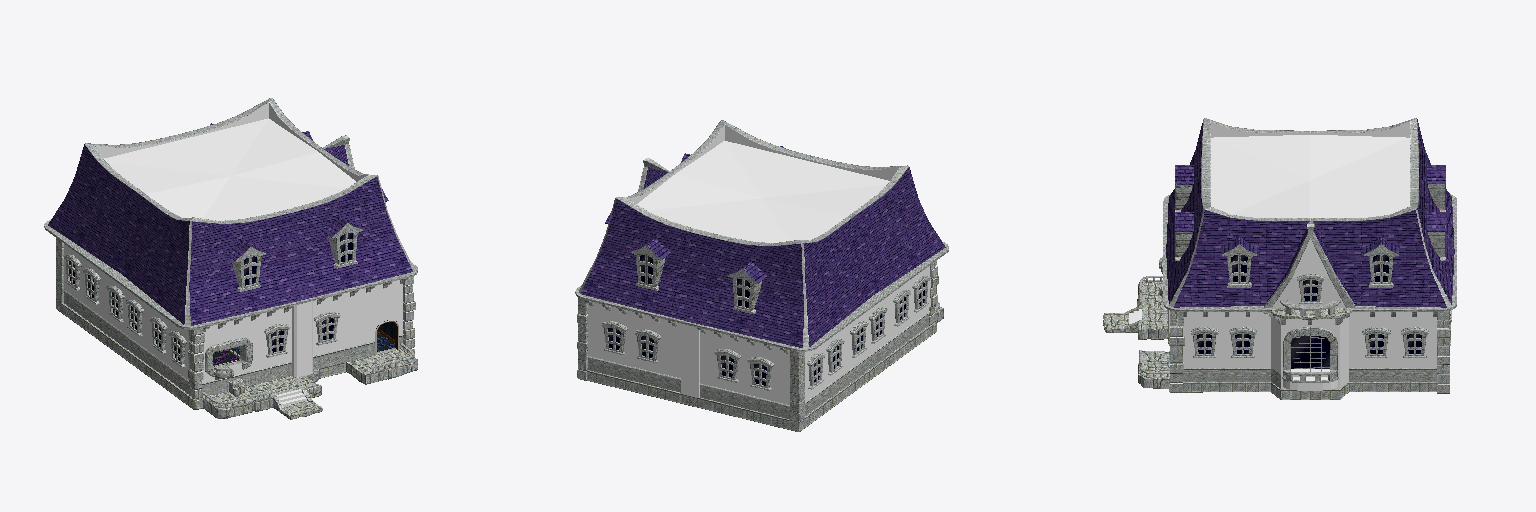
3 views of the same model, side by side, from view 1: azimuth 30°, elevation 25°; view 2: azimuth 150°, elevation 25°; view 3: azimuth 270°, elevation 25° (orthographic).
Parts seen in each view (by area): view 1: roof, stone5, stone2, stone6, stone4, stone1, outglass; view 2: roof, stone5, stone2, stone6, stone1, outglass; view 3: stone5, roof, stone2, stone6, stone4, stone1, outglass.
Boxes of the visible parts, x1,y1,x2,y2 form: roof: [48, 123, 412, 325]; stone5: [64, 102, 403, 405]; stone2: [44, 98, 417, 409]; stone6: [64, 222, 362, 376]; stone4: [203, 349, 417, 419]; stone1: [64, 291, 403, 396]; outglass: [69, 233, 352, 360]; roof: [581, 146, 945, 347]; stone5: [588, 125, 930, 404]; stone2: [575, 120, 948, 431]; stone6: [601, 245, 930, 390]; stone1: [588, 314, 928, 418]; outglass: [608, 255, 924, 385]; stone5: [1129, 121, 1436, 390]; roof: [1166, 119, 1454, 307]; stone2: [1139, 118, 1456, 399]; stone6: [1175, 184, 1451, 377]; stone4: [1103, 263, 1352, 388]; stone1: [1183, 336, 1436, 388]; outglass: [1197, 255, 1421, 368].
Size of the model in its own units: 6240 by 4042 by 7426.
Materials: 20 (17 with a texture image).